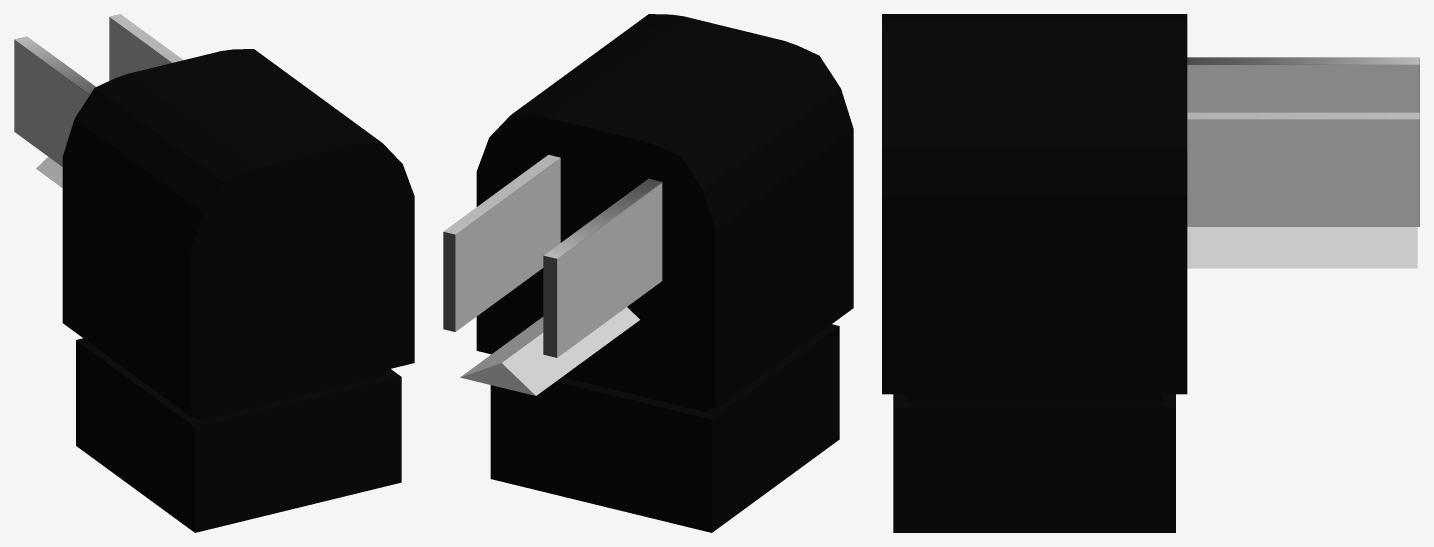
The model's file is 充电器2.fbx.
3 renders of one model, left to right at view 1: azimuth 30°, elevation 25°; view 2: azimuth 150°, elevation 25°; view 3: azimuth 270°, elevation 25°, orthographic. The views are drawn at different scales.
Visible parts, largest first — view 1: 立方体.002; view 2: 立方体.002; view 3: 立方体.002.
Boxes of the visible parts, <box> form: 立方体.002: <box>14,14,414,532</box>; 立方体.002: <box>443,14,853,532</box>; 立方体.002: <box>882,14,1419,532</box>.
Bounding box in the file's own units: 374 × 568 × 659.
Materials: 1 (1 with a texture image).
